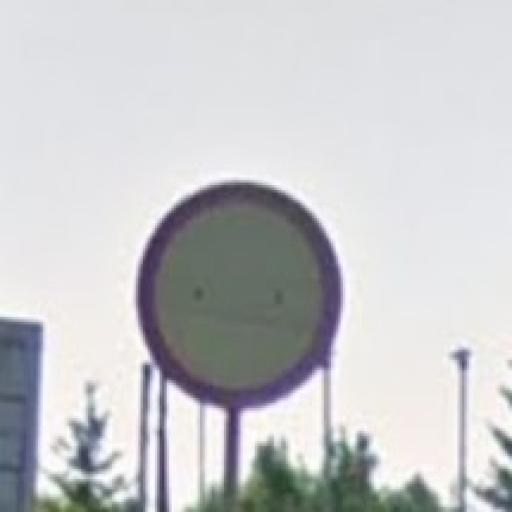traffic_sign: (137, 181, 344, 412)
